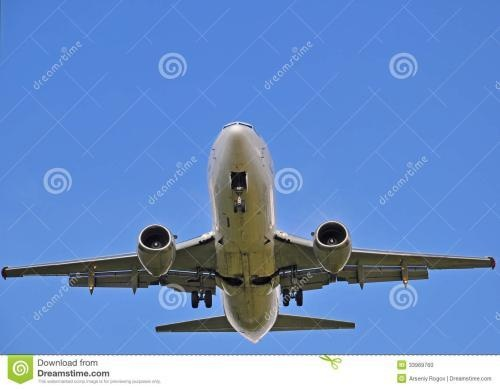airplane: (1, 120, 491, 344)
